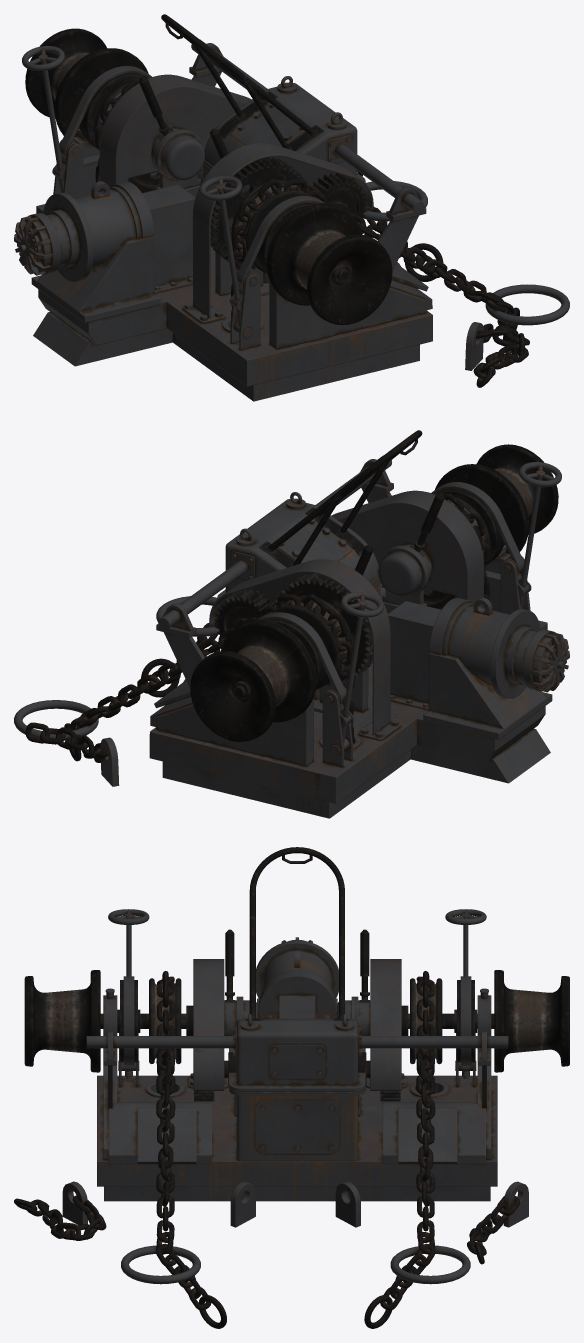
File: ship_windlass_winch.glb
3 views of the same model, one above another, from view 1: azimuth 30°, elevation 25°; view 2: azimuth 150°, elevation 25°; view 3: azimuth 270°, elevation 25° (orthographic). The views are drawn at different scales.
Visible parts, largest first — view 1: windlass_130_windlass_0, windlass_146_windlass_0, windlass_78_windlass_0, windlass_03_windlass_0, windlass_61_windlass_0, windlass_133_windlass_0, windlass_157_windlass_0, windlass_112_windlass_0, windlass_53_windlass_0, windlass_131_windlass_0, windlass_162_windlass_0, windlass_64_windlass_0 (+24 smaller); view 2: windlass_130_windlass_0, windlass_157_windlass_0, windlass_112_windlass_0, windlass_03_windlass_0, windlass_61_windlass_0, windlass_132_windlass_0, windlass_146_windlass_0, windlass_78_windlass_0, windlass_53_windlass_0, windlass_131_windlass_0, windlass_155_windlass_0, windlass_98_windlass_0 (+24 smaller); view 3: windlass_130_windlass_0, windlass_131_windlass_0, windlass_146_windlass_0, windlass_157_windlass_0, windlass_03_windlass_0, windlass_31_windlass_0, windlass_78_windlass_0, windlass_112_windlass_0, windlass_71_windlass_0, windlass_105_windlass_0, windlass_106_windlass_0, windlass_72_windlass_0 (+26 smaller).
Part boxes in pixels (bbox=[...]): windlass_130_windlass_0: bbox=[33, 204, 432, 401]; windlass_146_windlass_0: bbox=[266, 203, 392, 325]; windlass_78_windlass_0: bbox=[99, 74, 251, 191]; windlass_03_windlass_0: bbox=[18, 181, 154, 281]; windlass_61_windlass_0: bbox=[31, 236, 160, 322]; windlass_133_windlass_0: bbox=[269, 207, 426, 349]; windlass_157_windlass_0: bbox=[25, 28, 148, 136]; windlass_112_windlass_0: bbox=[192, 143, 373, 318]; windlass_53_windlass_0: bbox=[142, 184, 195, 293]; windlass_131_windlass_0: bbox=[202, 83, 357, 283]; windlass_162_windlass_0: bbox=[210, 156, 310, 269]; windlass_64_windlass_0: bbox=[151, 128, 204, 180]; windlass_130_windlass_0: bbox=[149, 620, 550, 818]; windlass_157_windlass_0: bbox=[190, 619, 316, 741]; windlass_112_windlass_0: bbox=[332, 490, 484, 608]; windlass_03_windlass_0: bbox=[429, 598, 565, 698]; windlass_61_windlass_0: bbox=[423, 653, 552, 739]; windlass_132_windlass_0: bbox=[156, 624, 313, 766]; windlass_146_windlass_0: bbox=[435, 444, 558, 553]; windlass_78_windlass_0: bbox=[209, 559, 390, 734]; windlass_53_windlass_0: bbox=[388, 601, 440, 710]; windlass_131_windlass_0: bbox=[225, 499, 380, 700]; windlass_155_windlass_0: bbox=[274, 573, 372, 686]; windlass_98_windlass_0: bbox=[378, 544, 432, 596]; windlass_130_windlass_0: bbox=[97, 1075, 497, 1201]; windlass_131_windlass_0: bbox=[236, 1019, 357, 1161]; windlass_146_windlass_0: bbox=[24, 970, 100, 1072]; windlass_157_windlass_0: bbox=[494, 970, 569, 1072]; windlass_03_windlass_0: bbox=[256, 940, 338, 1019]; windlass_31_windlass_0: bbox=[255, 1100, 339, 1154]; windlass_78_windlass_0: bbox=[370, 959, 401, 1090]; windlass_112_windlass_0: bbox=[193, 959, 224, 1090]; windlass_71_windlass_0: bbox=[382, 1102, 485, 1164]; windlass_105_windlass_0: bbox=[109, 1102, 211, 1164]; windlass_106_windlass_0: bbox=[137, 1107, 196, 1164]; windlass_72_windlass_0: bbox=[398, 1107, 457, 1164].
Bounding box in the file's own units: 2.49 × 1.83 × 2.67.
Materials: 1 (1 with a texture image).
